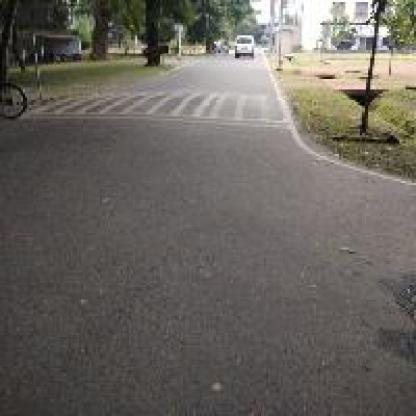Speed Bump: (29, 87, 295, 131)
